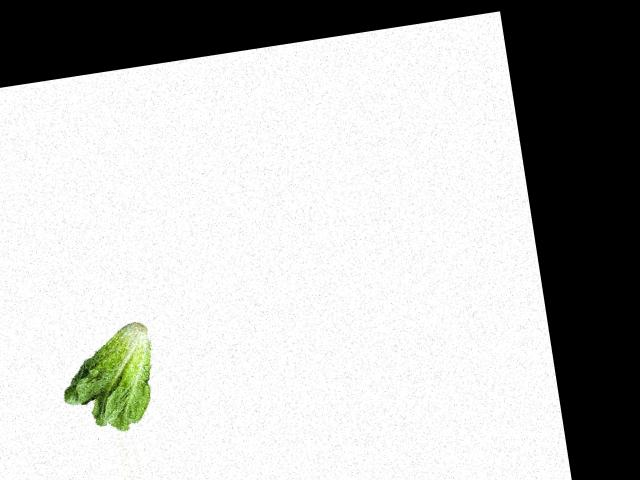lettuce: (51, 320, 167, 441)
